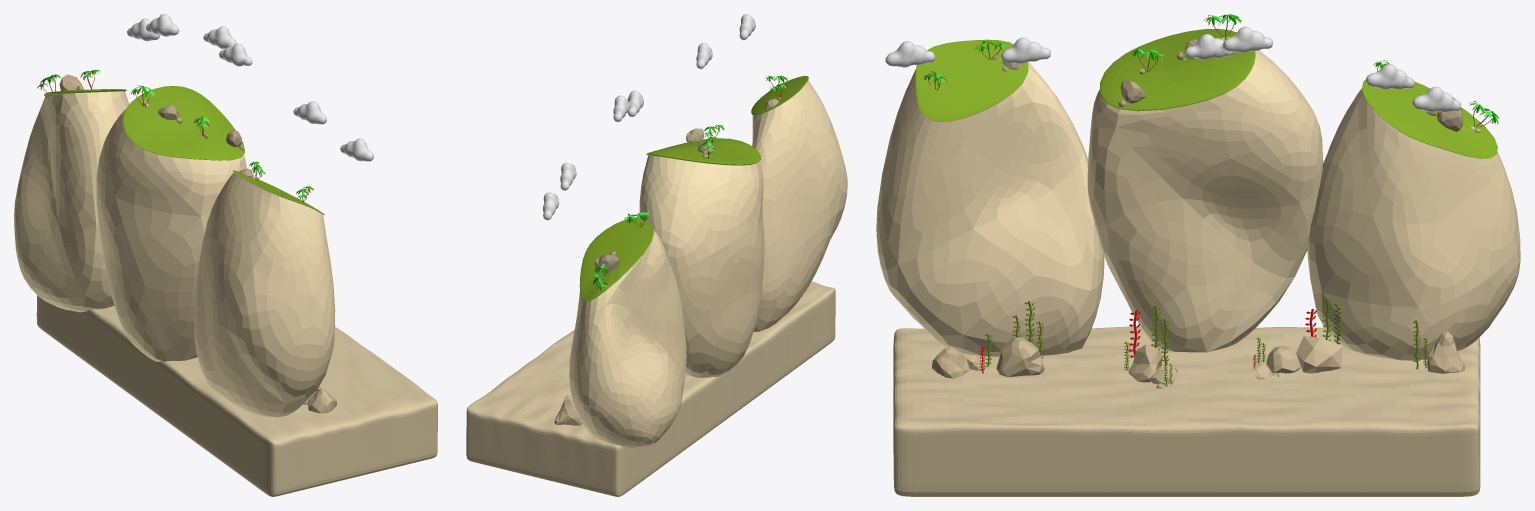
Rendered from GarbageHunt 5.0.fbx.
3 renders of one model, left to right at view 1: azimuth 30°, elevation 25°; view 2: azimuth 150°, elevation 25°; view 3: azimuth 270°, elevation 25°, orthographic. The views are drawn at different scales.
Visible parts, largest first — view 1: Alt Zemin, rock.007, rock.009, rock.010, Mball, Çimen.006, Çimen.002, rock.006; view 2: Alt Zemin, rock.009, rock.010, rock.007, Mball, Çimen.002, Çimen.006, Cylinder.047; view 3: Alt Zemin, rock.009, rock.007, rock.010, Mball, rock.006, Çimen.005, rock.005, Cylinder.047, Çimen.006, Çimen.002.
Boxes of the visible parts, x1,y1,x2,y2 form: Alt Zemin: (36, 295, 437, 496); rock.007: (194, 170, 335, 417); rock.009: (96, 86, 246, 361); rock.010: (14, 89, 129, 312); Mball: (127, 14, 373, 161); Çimen.006: (130, 85, 244, 150); Çimen.002: (37, 69, 100, 92); rock.006: (303, 387, 336, 413); Alt Zemin: (466, 281, 835, 496); rock.009: (639, 138, 764, 377); rock.010: (569, 218, 686, 448); rock.007: (751, 75, 847, 331); Mball: (543, 14, 755, 220); Çimen.002: (593, 212, 650, 290); Çimen.006: (686, 125, 724, 158); Cylinder.047: (554, 394, 582, 425); Alt Zemin: (893, 326, 1480, 496); rock.009: (1087, 28, 1323, 352); rock.007: (876, 39, 1104, 356); rock.010: (1307, 79, 1520, 360); Mball: (885, 26, 1461, 112); rock.006: (932, 301, 1044, 378); Çimen.005: (1253, 298, 1342, 379); rock.005: (1124, 305, 1177, 388); Cylinder.047: (1412, 320, 1464, 373); Çimen.006: (1118, 14, 1241, 107); Çimen.002: (1373, 60, 1498, 132).
Bounding box in the file's own units: 1219 × 1970 × 2694.
